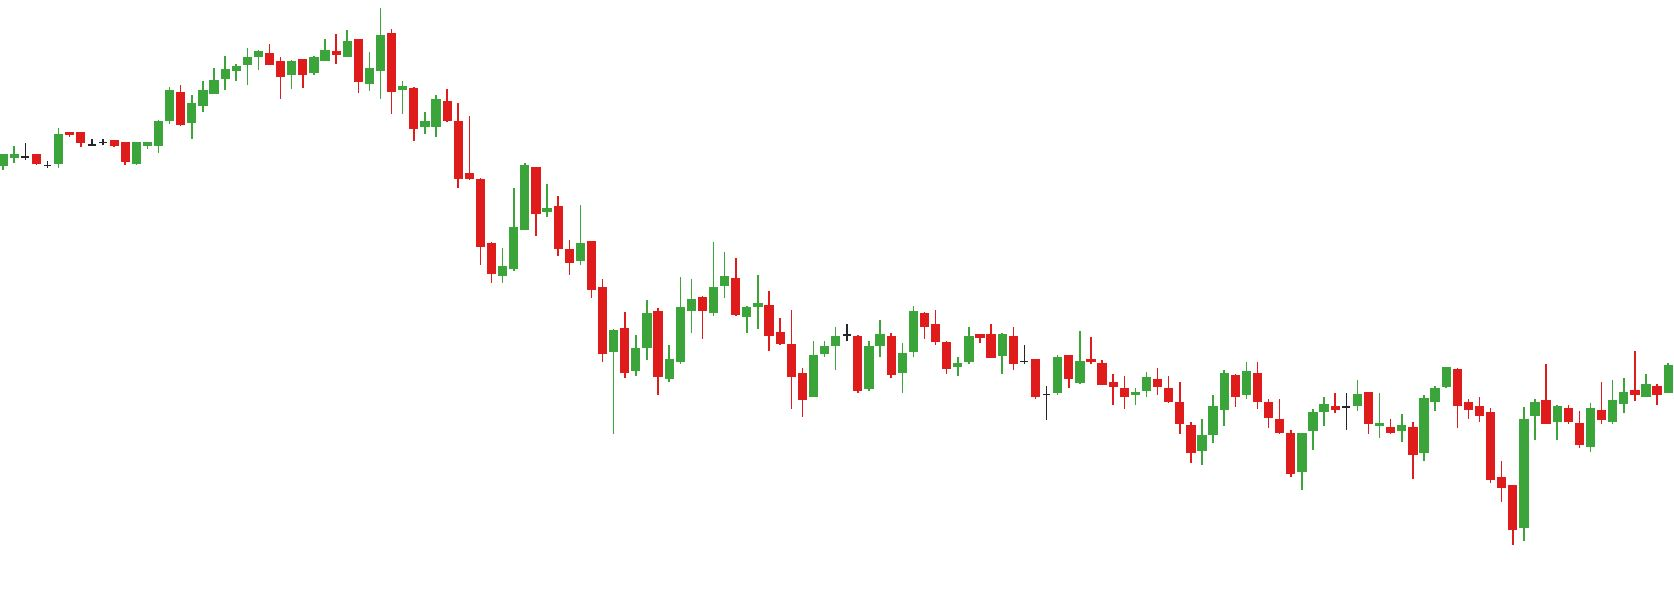buy: (652, 303, 821, 415), (1186, 403, 1309, 495)
sell: (1352, 365, 1464, 438)
